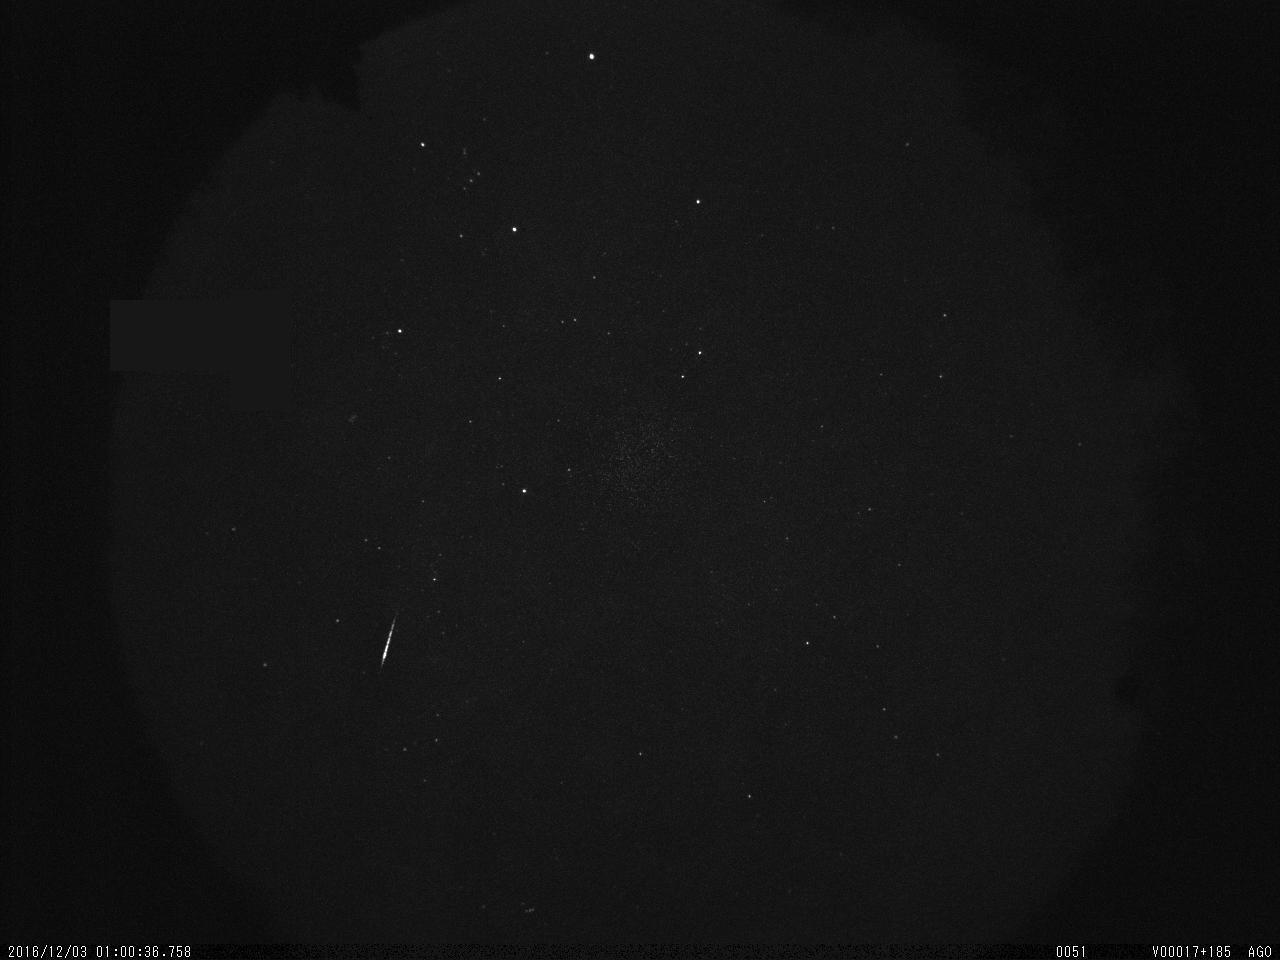meteor: (357, 601, 416, 677)
